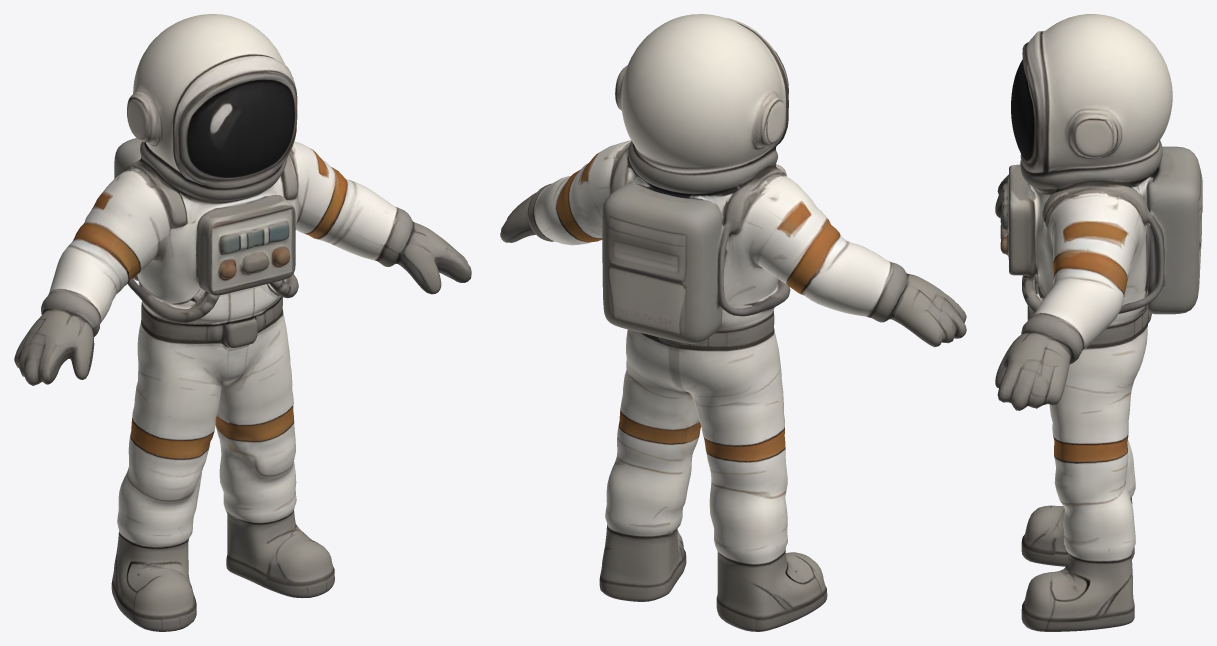
Rendered from astronaut.glb.
The picture shows the model from 3 angles, left to right: view 1: azimuth 30°, elevation 25°; view 2: azimuth 150°, elevation 25°; view 3: azimuth 270°, elevation 25°; orthographic projection. The views are drawn at different scales.
Parts seen in each view (by area): view 1: model; view 2: model; view 3: model.
Boxes of the visible parts, bbox=[...] form: model: bbox=[14, 14, 471, 631]; model: bbox=[500, 14, 966, 631]; model: bbox=[995, 14, 1202, 631].
Bounding box in the file's own units: 1.56 × 1.91 × 0.632.
Materials: 1 (1 with a texture image).
